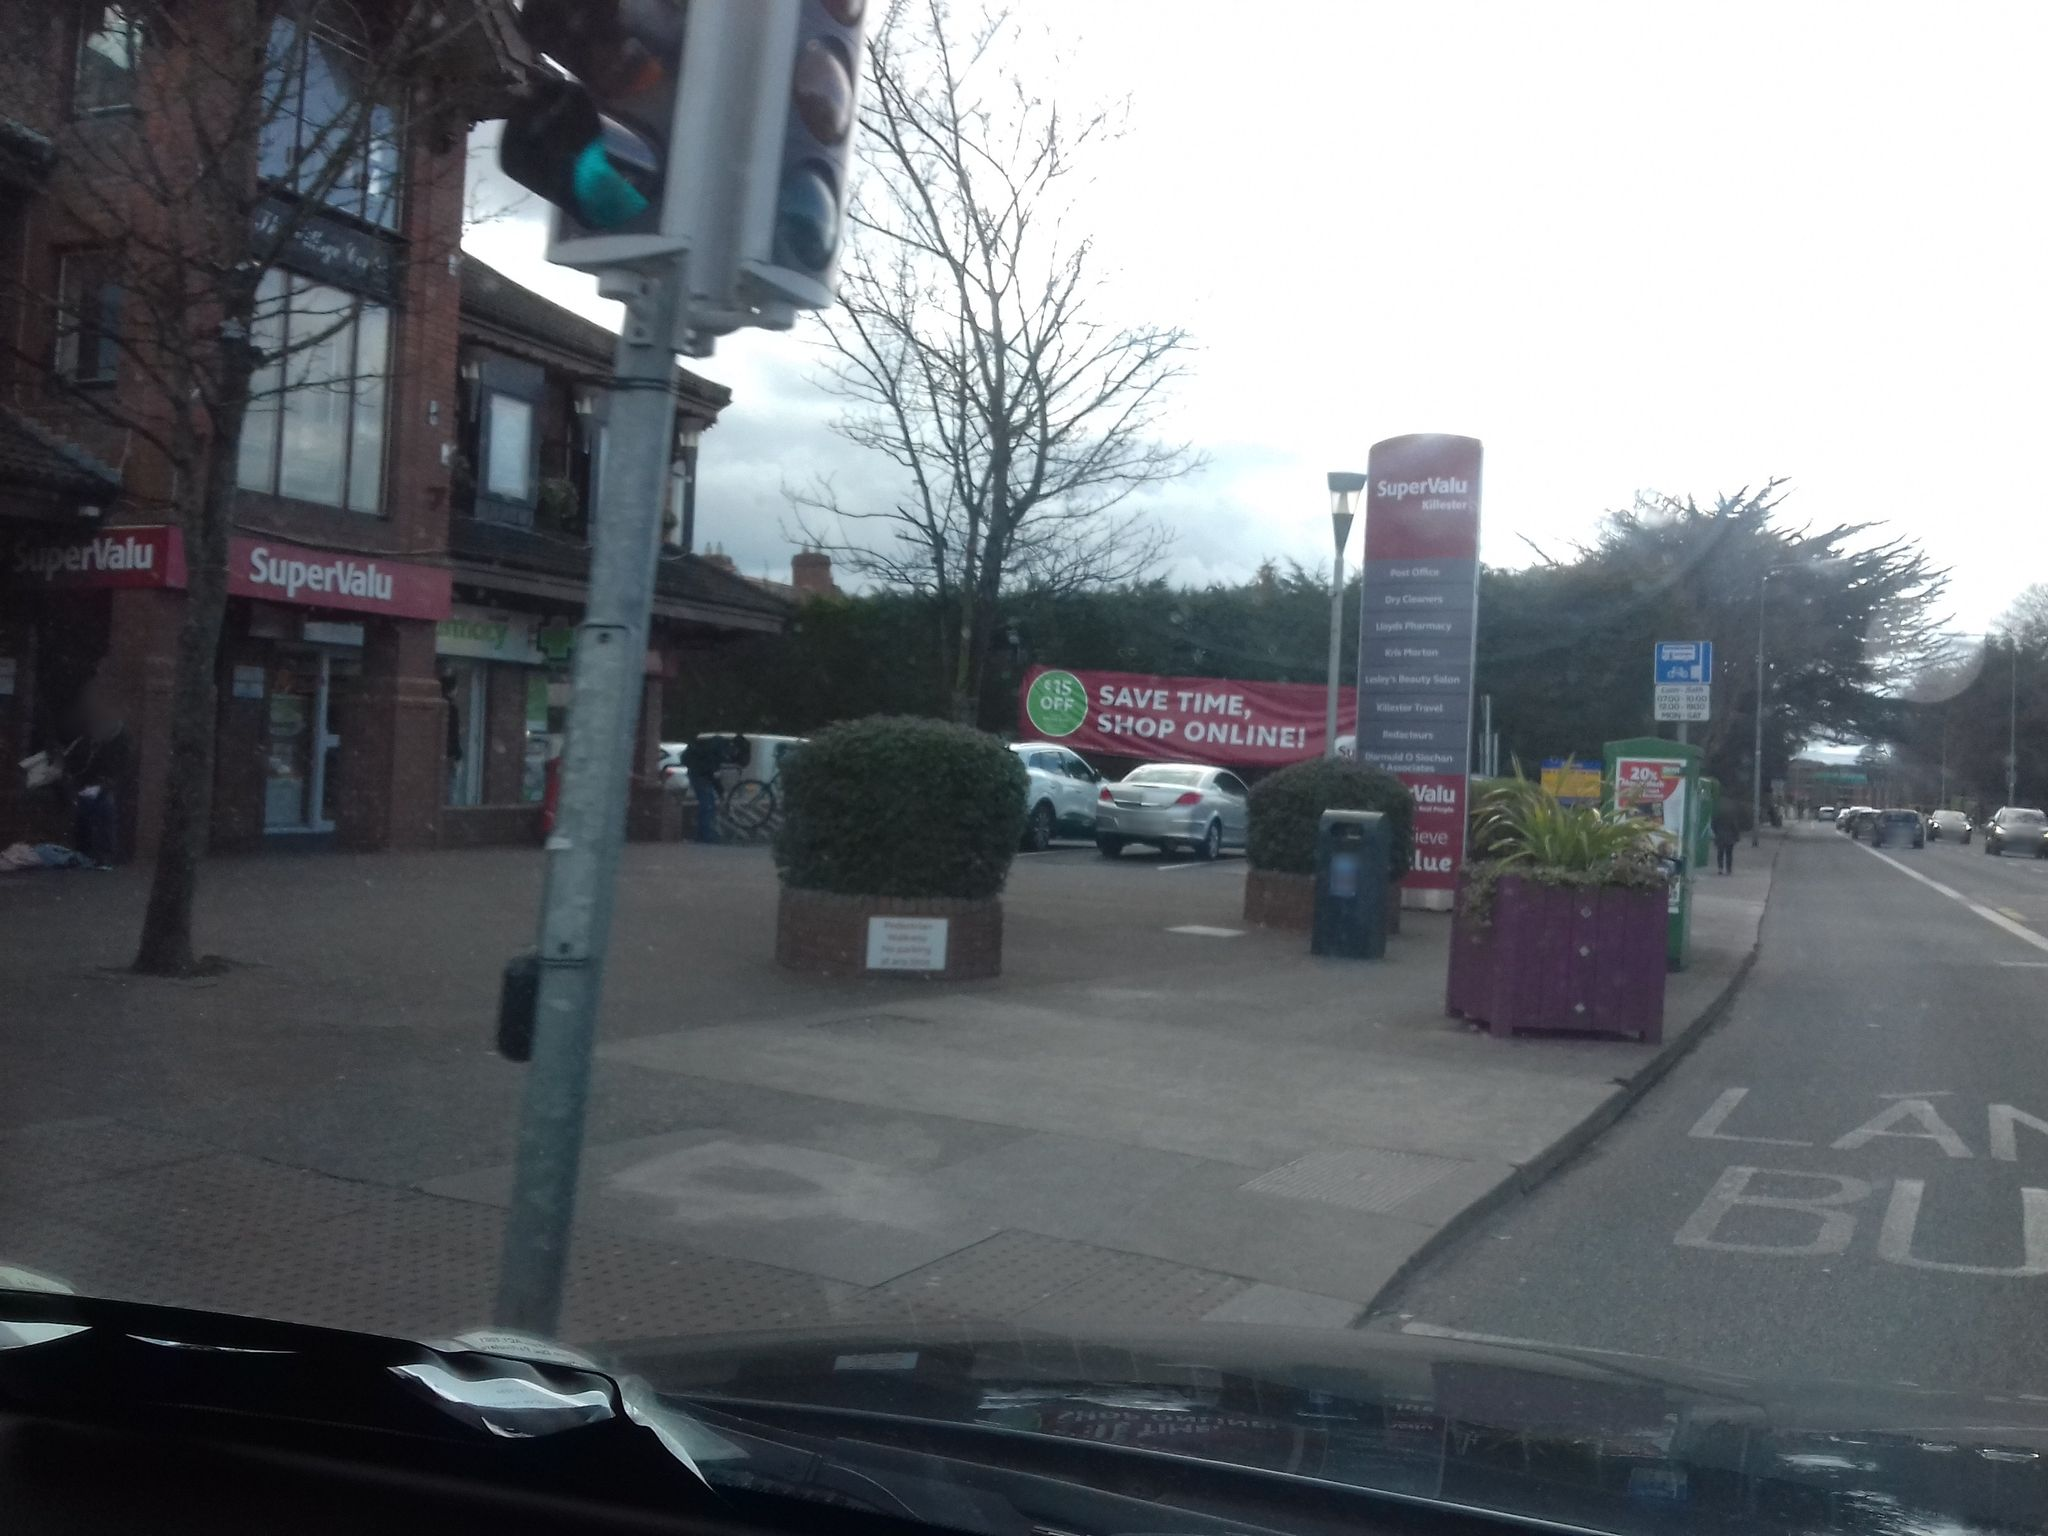vinyl banner: (1009, 645, 1364, 786)
